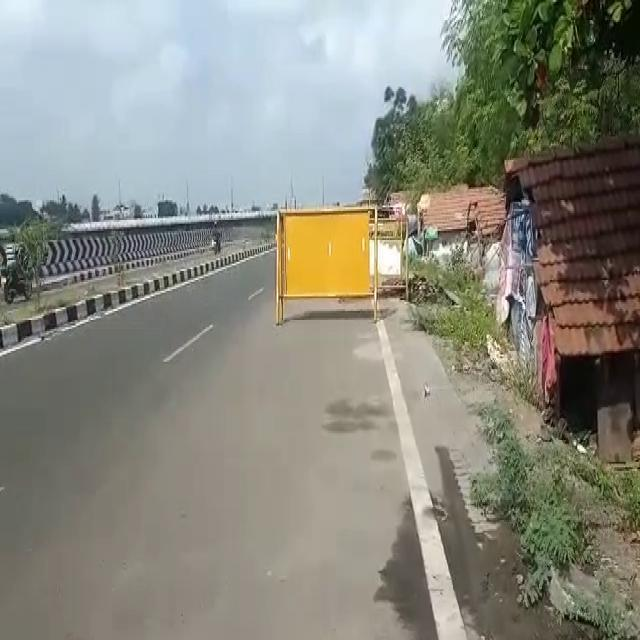fallen_object: (252, 189, 404, 330)
